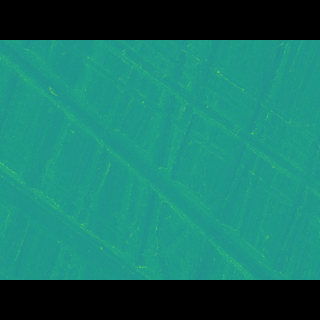Loch: (0, 69, 291, 249), (91, 69, 319, 191), (0, 163, 153, 250)
